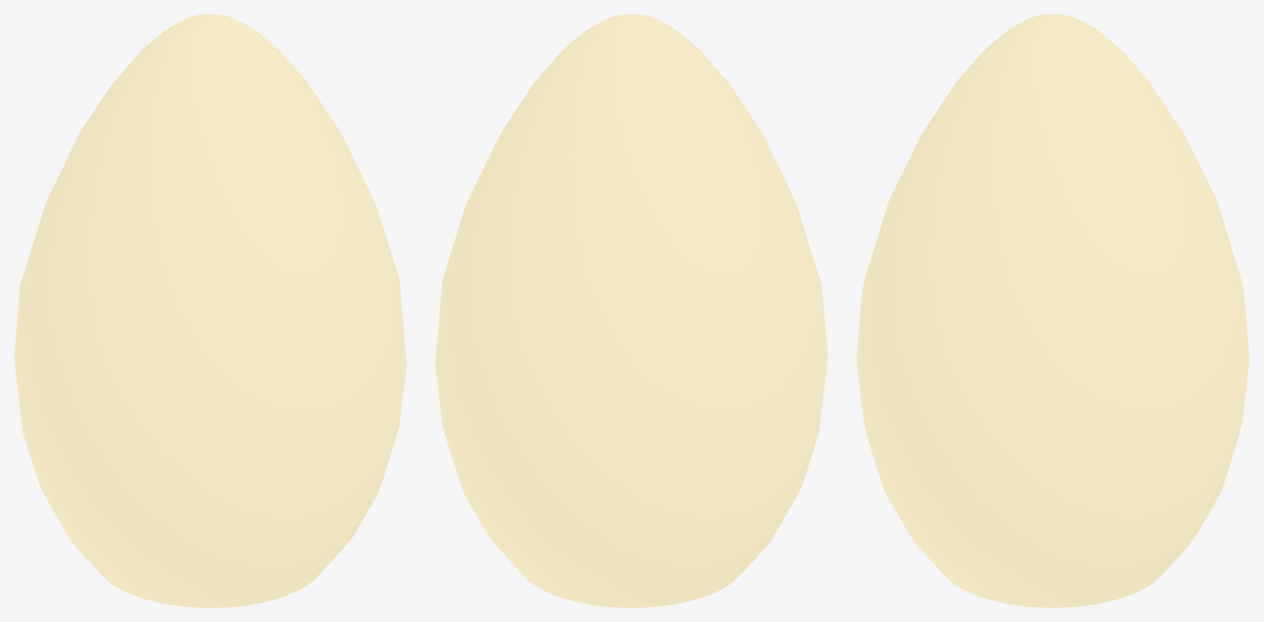
File: bulb.glb
3 views of the same model, side by side, from view 1: azimuth 30°, elevation 25°; view 2: azimuth 150°, elevation 25°; view 3: azimuth 270°, elevation 25° (orthographic).
Visible parts, largest first — view 1: Sphere.001; view 2: Sphere.001; view 3: Sphere.001.
Boxes of the visible parts, box(x1,y1,x2,y2) form: Sphere.001: box(14, 14, 406, 607); Sphere.001: box(435, 14, 827, 607); Sphere.001: box(856, 14, 1249, 607).
Bounding box in the file's own units: 0.1805 × 0.2739 × 0.1805.
